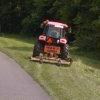Tractor: (25, 14, 82, 73)
